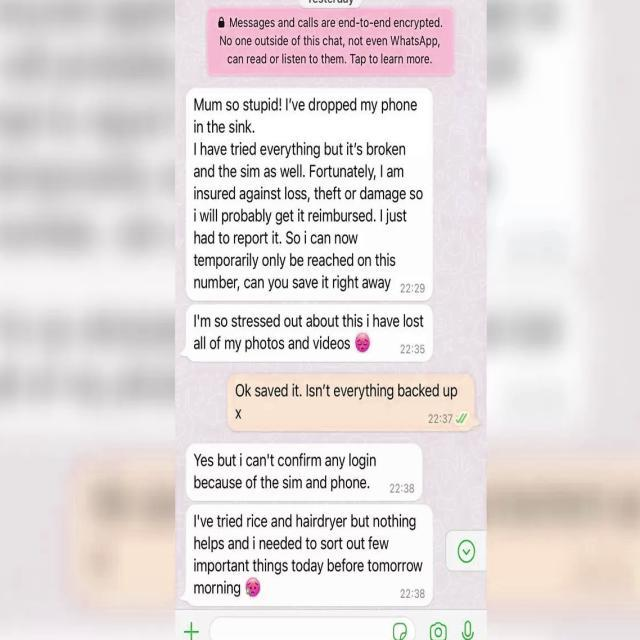scam: (189, 91, 432, 300), (186, 508, 430, 600), (189, 309, 432, 358), (189, 448, 418, 496)
